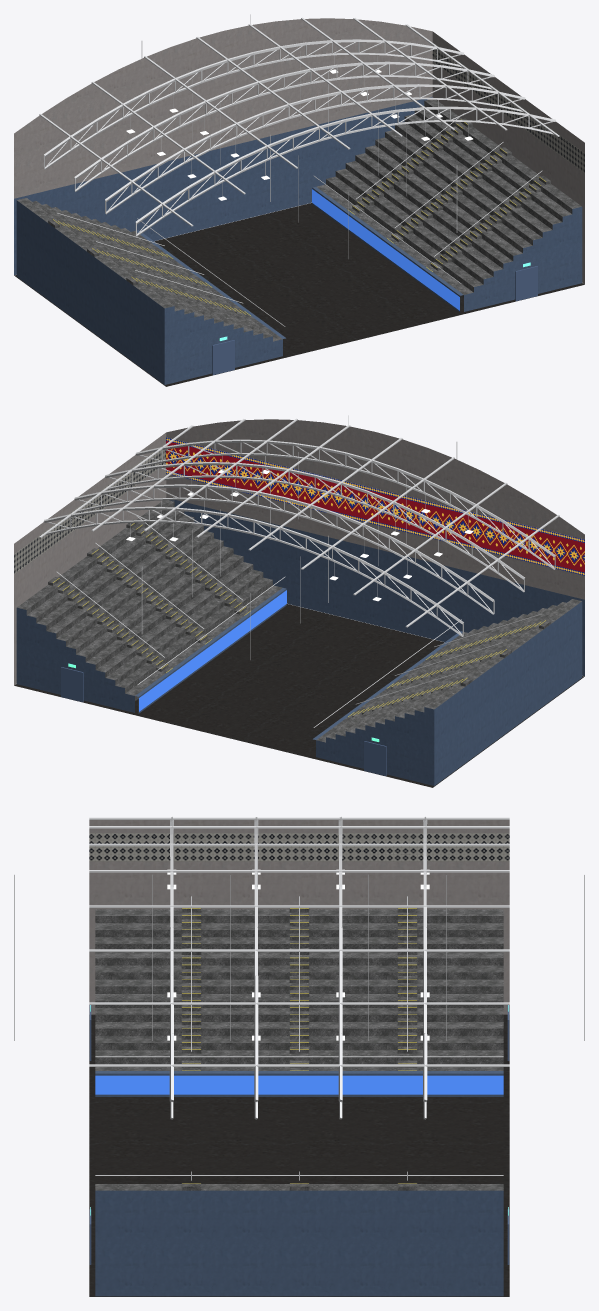
The model's file is takraw_arena.glb.
3 renders of one model, top to bottom at view 1: azimuth 30°, elevation 25°; view 2: azimuth 150°, elevation 25°; view 3: azimuth 270°, elevation 25°, orthographic. The views are drawn at different scales.
Parts seen in each view (by area): view 1: Walls.002, Upper, Steps.002, Floor.005, Steel.003, Wrap_roster, Ribbon.003, Door.004, Nosing.008; view 2: Walls.002, Steps.002, Upper, Floor.005, Steel.003, Wrap_mural, Wrap_roster, Ribbon.003, Door.004, Nosing.008; view 3: Steps.002, Walls.002, Floor.005, Upper, Steel.003, Wrap_roster, Ribbon.003, Nosing.008, Door.004.
Boxes of the visible parts, <box> form: Walls.002: <box>14,96,582,384</box>; Upper: <box>14,18,584,284</box>; Steps.002: <box>17,99,581,341</box>; Floor.005: <box>14,203,584,386</box>; Steel.003: <box>39,14,559,326</box>; Wrap_roster: <box>432,42,584,173</box>; Ribbon.003: <box>312,189,459,310</box>; Door.004: <box>212,266,537,375</box>; Nosing.008: <box>53,119,545,315</box>; Walls.002: <box>16,497,584,785</box>; Steps.002: <box>17,500,581,742</box>; Upper: <box>14,419,584,685</box>; Floor.005: <box>14,604,584,787</box>; Steel.003: <box>39,415,559,727</box>; Wrap_mural: <box>166,437,584,575</box>; Wrap_roster: <box>14,443,165,574</box>; Ribbon.003: <box>139,590,286,711</box>; Door.004: <box>61,667,386,776</box>; Nosing.008: <box>53,523,545,716</box>; Steps.002: <box>95,908,503,1190</box>; Walls.002: <box>95,1071,503,1296</box>; Floor.005: <box>89,1014,509,1296</box>; Upper: <box>89,820,509,1014</box>; Steel.003: <box>14,817,584,1180</box>; Wrap_roster: <box>89,833,509,861</box>; Ribbon.003: <box>95,1075,503,1094</box>; Nosing.008: <box>182,908,416,1183</box>; Door.004: <box>89,1005,509,1264</box>.
Size of the model in its own units: 34.09 by 15.16 by 29.08.
Materials: 13 (7 with a texture image).
